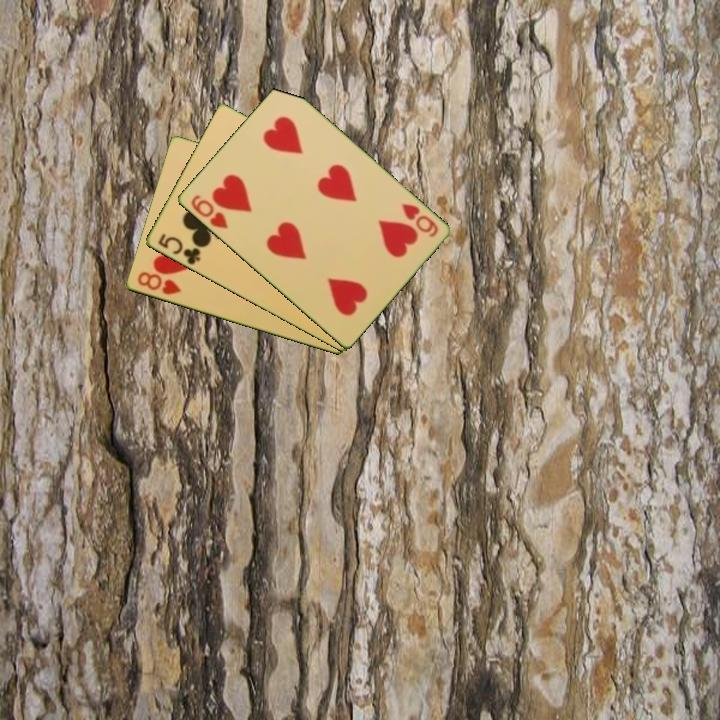5c: (154, 230, 203, 268)
6h: (187, 191, 231, 232), (398, 200, 441, 240)
8h: (133, 268, 184, 298)
